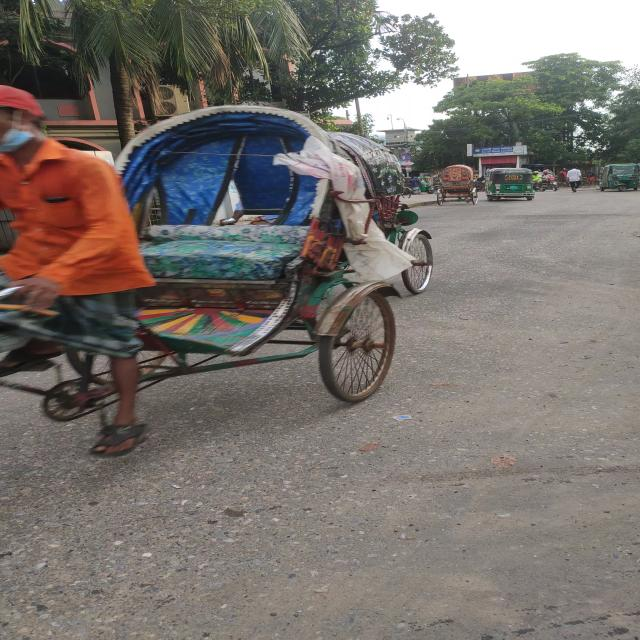rickshaw: (12, 124, 364, 394)
